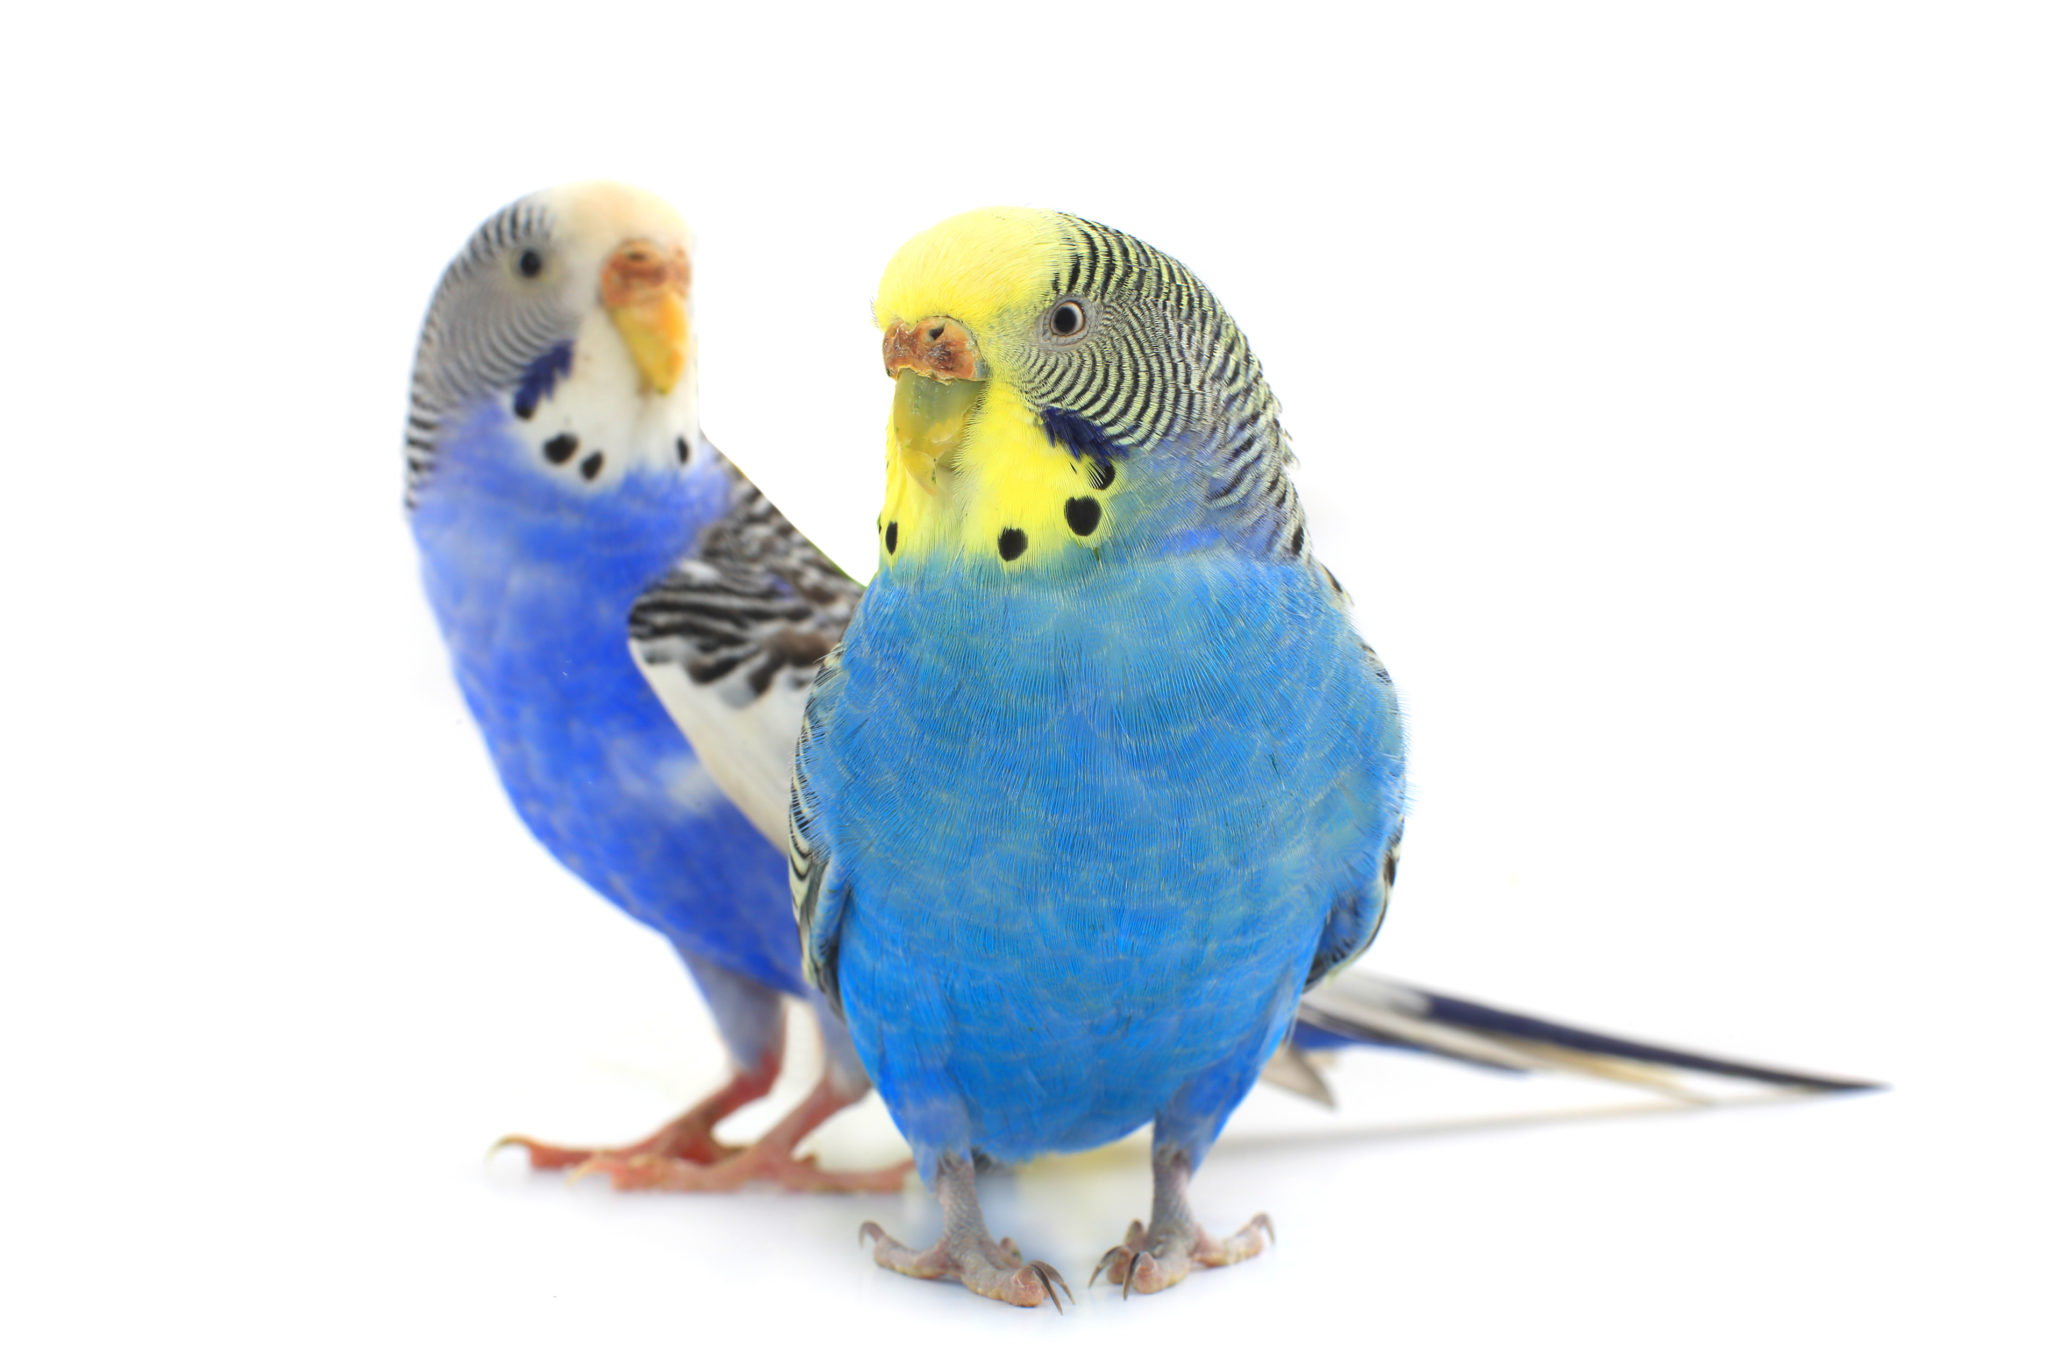budgie: (388, 191, 1892, 1192), (790, 191, 1407, 1320)
